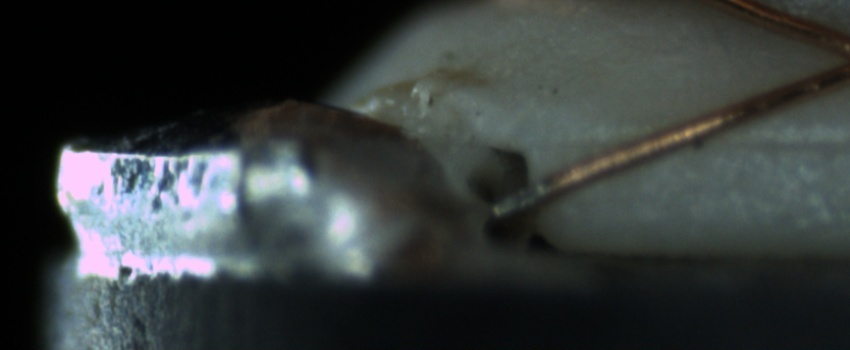CL: (804, 24, 850, 92)
DL: (563, 112, 850, 171)
TS: (486, 177, 548, 221)
